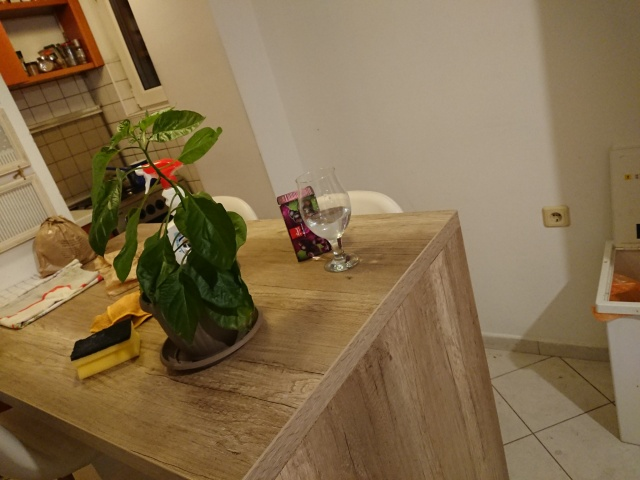Franck Black Currant Tea 60g: (274, 183, 334, 264)
